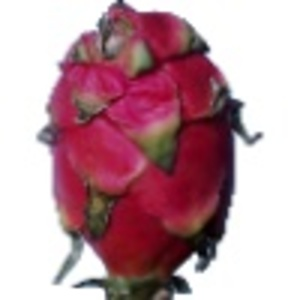pitaia: (38, 1, 263, 300)
